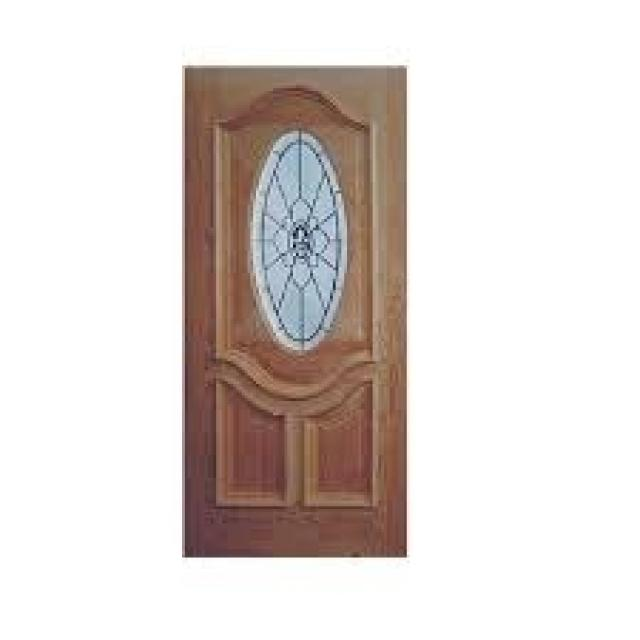door: (181, 64, 408, 559)
